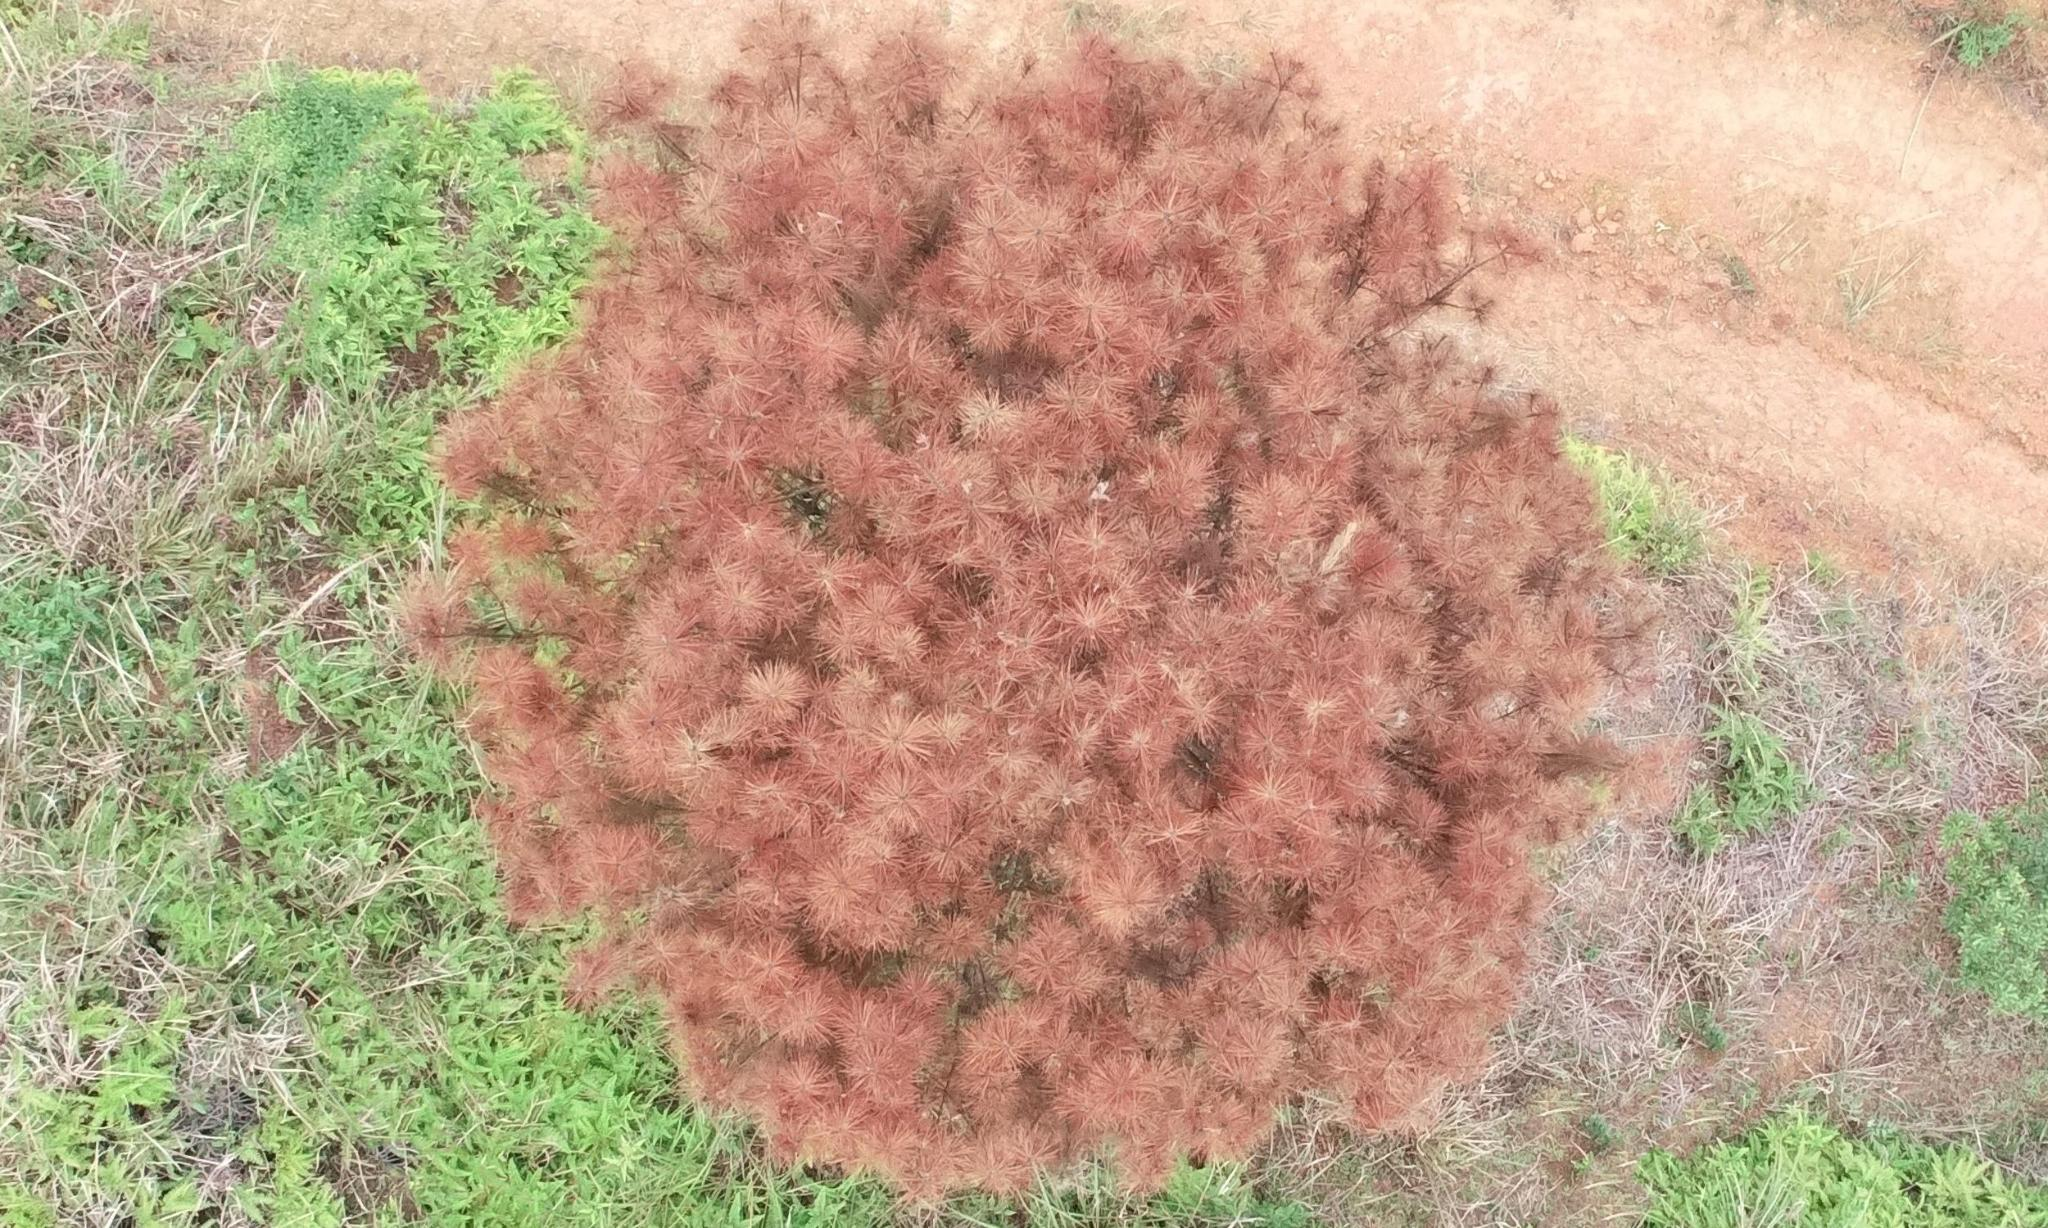heavy: (490, 20, 1656, 1190)
